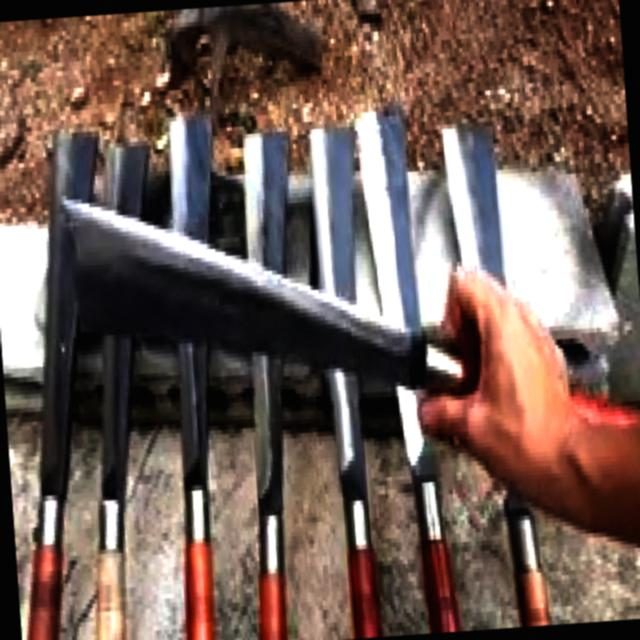eto: (62, 199, 640, 458)
